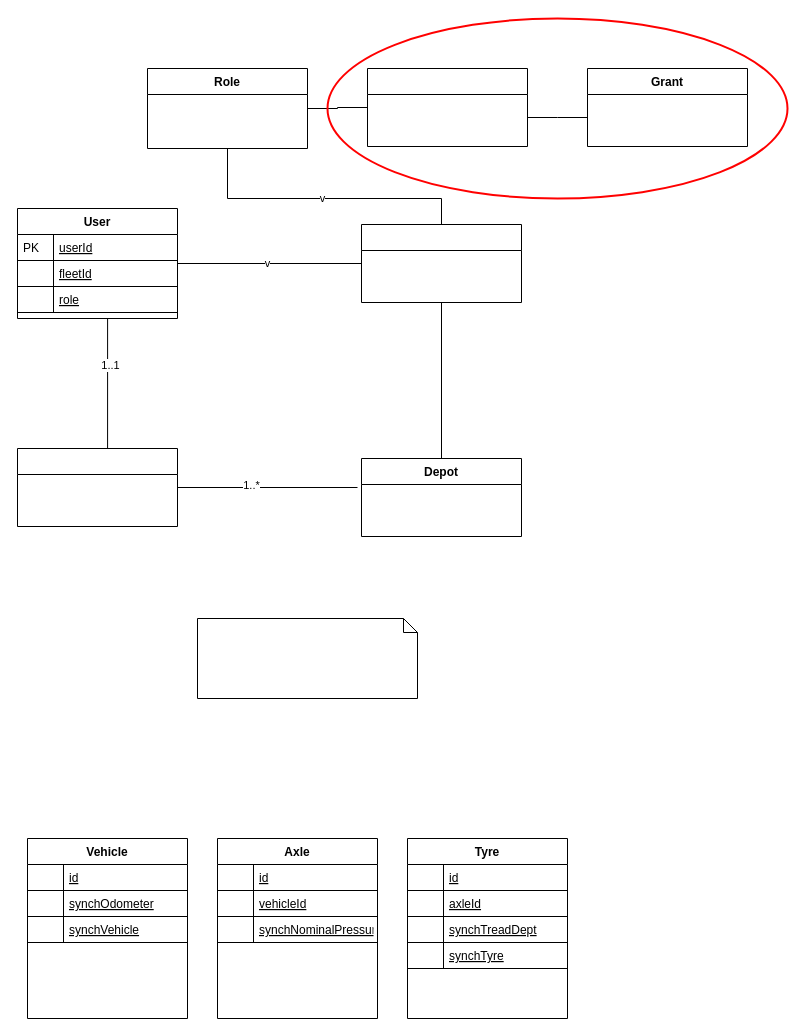
The diagram is 806 pixels wide and 1036 high, and some of its shapes have lost their labels. The centre of each missing label's shape, as x and y in pixels:
Fleet: the point at 97,487
GET = All - synch=DELETE ADD, EDIT, DELETE: the point at 307,658
Role_Grant: the point at 447,107
User_Role_Depot: the point at 441,263
